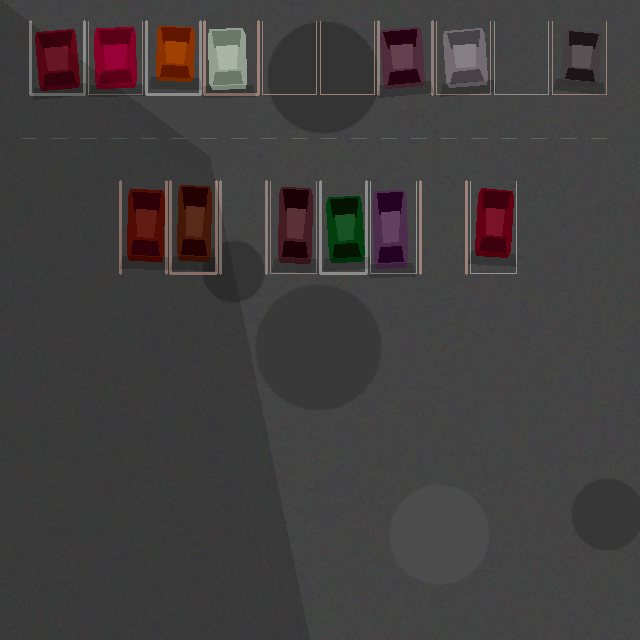space-empty: (220, 181, 266, 273), (420, 181, 466, 273), (262, 21, 316, 94), (320, 21, 374, 94), (494, 21, 548, 94)
space-occupied: (120, 181, 166, 273), (170, 181, 216, 273), (270, 181, 316, 273), (320, 181, 366, 273), (370, 181, 416, 273), (470, 181, 516, 273), (30, 21, 84, 94), (88, 21, 142, 94), (146, 21, 200, 94), (204, 21, 258, 94), (378, 21, 432, 94), (436, 21, 490, 94), (552, 21, 606, 94)
